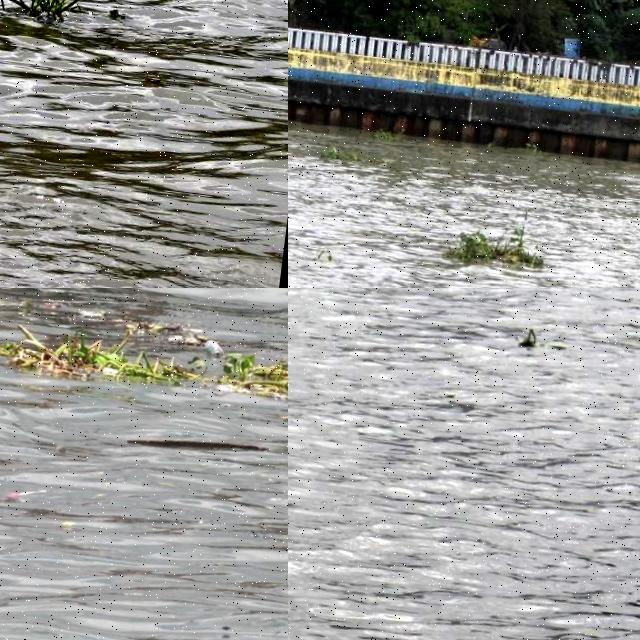water-hyacinth: (1, 304, 207, 391), (440, 213, 552, 278), (213, 340, 289, 423), (1, 1, 125, 48), (1, 289, 26, 309)
